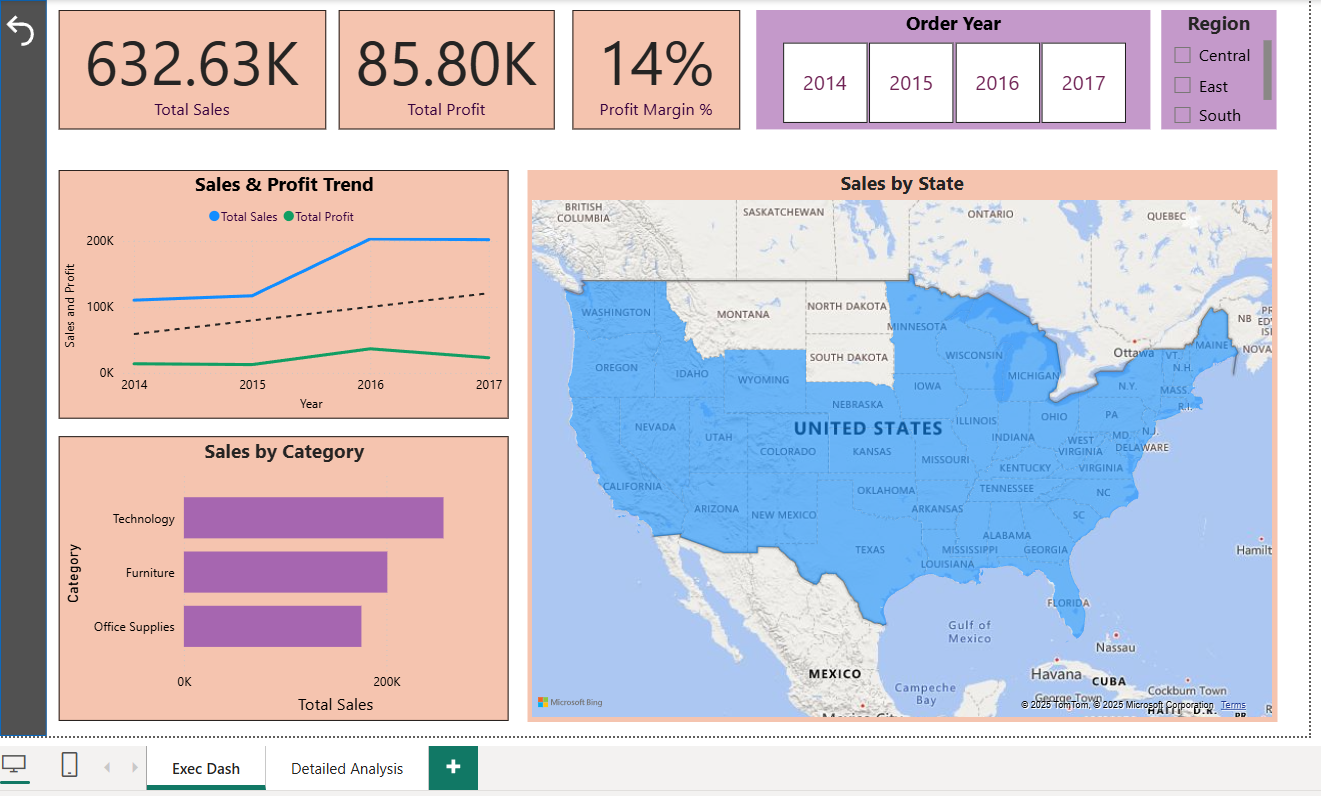

What the dashboard file says about the page in this screenshot:
{"tool":"powerbi","page":{"name":"Exec Dash","canvas":[1280,720],"ordinal":0},"visuals":[{"type":"card","fields":{"Values":["Superstore Sales.Total Sales"]},"box":[57.1,10,261.4,117.1],"z":0},{"type":"card","fields":{"Values":["Superstore Sales.Total Profit"]},"box":[331.4,10,211.4,117.1],"z":1000},{"type":"card","fields":{"Values":["Superstore Sales.Profit Margin %"]},"box":[560,10,164.3,117.1],"z":2000},{"type":"lineChart","title":"Sales & Profit Trend","fields":{"Category":["Superstore Sales.Order Date.Variation.Date Hierarchy.Year","Superstore Sales.Order Date.Variation.Date Hierarchy.Quarter","Superstore Sales.Order Date.Variation.Date Hierarchy.Month","Superstore Sales.Order Date.Variation.Date Hierarchy.Day"],"Y":["Superstore Sales.Total Sales","Superstore Sales.Total Profit"]},"box":[57.1,165.7,440,242.9],"z":3000},{"type":"barChart","title":"Sales by Category","fields":{"Category":["Superstore Sales.Category"],"Y":["Superstore Sales.Total Sales"]},"box":[57.1,427.1,440,278.6],"z":4000},{"type":"filledMap","title":"Sales by State","fields":{"Category":["Superstore Sales.State"]},"box":[515.7,165.7,732.9,540],"z":5000},{"type":"slicer","title":"Region","fields":{"Values":["Superstore Sales.Region"]},"box":[1135.7,10,112.9,117.1],"z":6000},{"type":"slicer","title":"Order Year","fields":{"Values":["Superstore Sales.Order Year"]},"box":[740,10,385.7,117.1],"z":7000},{"type":"shape","box":[0,0,45.7,720],"z":7001},{"type":"actionButton","box":[0,10,45.7,40],"z":7002}]}

Visuals, with their boxes in screenshot pixels (x1, y1, x2, y2):
card - Superstore Sales.Total Sales: bbox(55, 7, 321, 126)
card - Superstore Sales.Total Profit: bbox(334, 7, 549, 126)
card - Superstore Sales.Profit Margin %: bbox(567, 7, 734, 126)
"Sales & Profit Trend" lineChart: bbox(55, 165, 502, 412)
"Sales by Category" barChart: bbox(55, 431, 502, 715)
"Sales by State" filledMap: bbox(521, 165, 1267, 715)
"Region" slicer: bbox(1152, 7, 1267, 126)
"Order Year" slicer: bbox(750, 7, 1142, 126)
shape: bbox(0, 0, 43, 729)
actionButton: bbox(0, 7, 43, 47)
